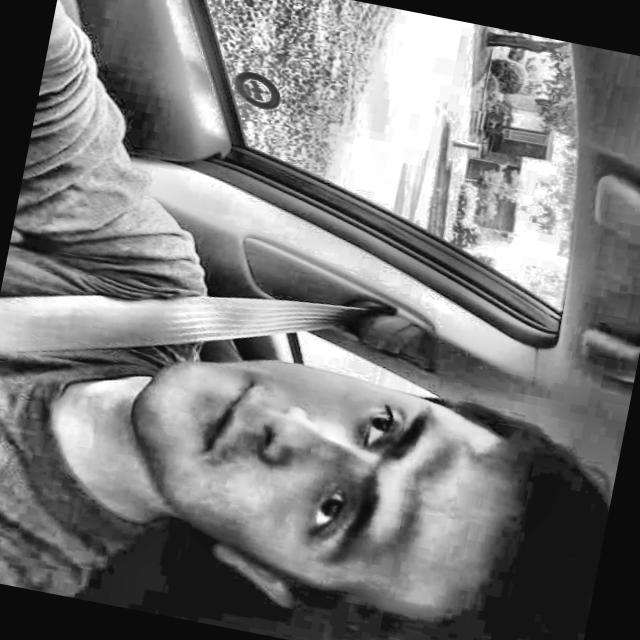closed_mouth: (182, 356, 264, 485)
open_eyes: (342, 387, 400, 462), (299, 473, 354, 552)
